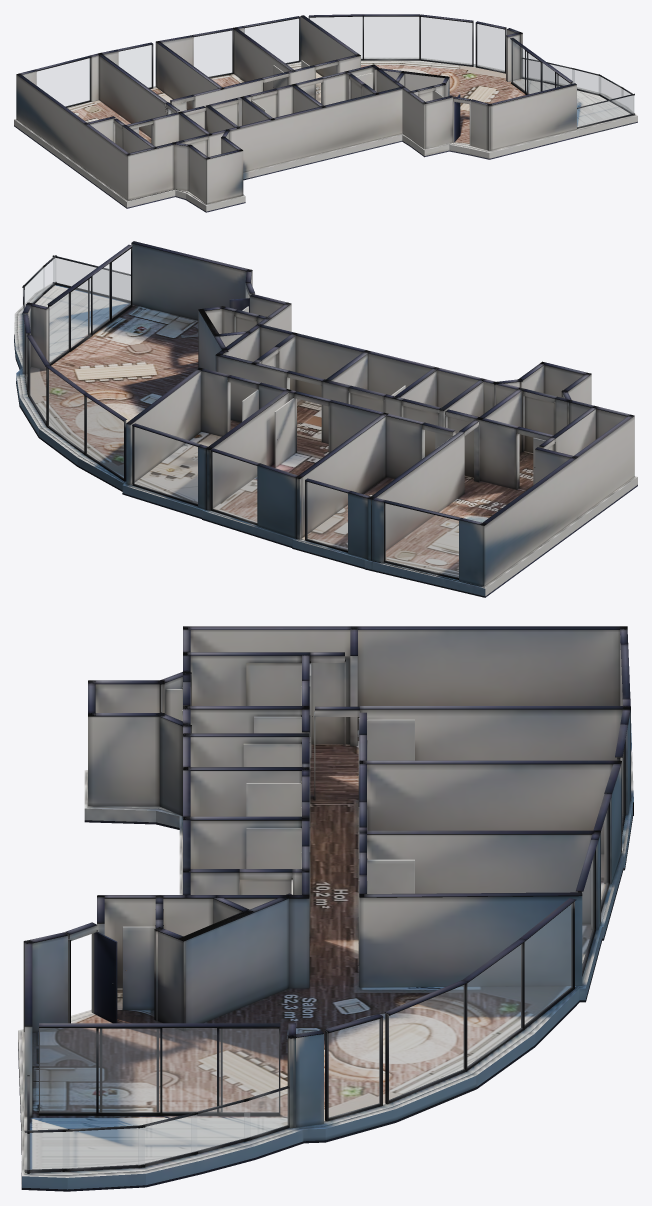
The picture shows the model from 3 angles, top to bottom: view 1: azimuth 30°, elevation 25°; view 2: azimuth 150°, elevation 25°; view 3: azimuth 270°, elevation 25°; orthographic projection. The views are drawn at different scales.
Parts seen in each view (by area): view 1: plan, glass5_m, glass6_m, glass0_m, glass2_m, glass3_m, glass8_m, glass7_m, glass4_m, railg5_m, glass1_m, railg2_m (+2 smaller); view 2: plan, glass8_m, glass0_m, glass3_m, glass2_m, glass1_m, glass4_m, glass5_m, railg5_m, glass6_m; view 3: plan, glass8_m, glass6_m, glass5_m, glass7_m, glass4_m, railg3_m, railg2_m, railg1_m, railg4_m, railg0_m, glass3_m.
Part boxes in pixels (x1,y1,x2,y2): plan: [14, 14, 637, 212]; glass5_m: [364, 17, 418, 58]; glass6_m: [421, 17, 471, 64]; glass0_m: [37, 58, 89, 106]; glass2_m: [194, 31, 232, 76]; glass3_m: [244, 19, 298, 62]; glass8_m: [511, 40, 569, 93]; glass7_m: [477, 24, 504, 71]; glass4_m: [310, 17, 362, 58]; railg5_m: [577, 96, 634, 126]; glass1_m: [119, 45, 151, 87]; railg2_m: [572, 69, 600, 94]; plan: [14, 241, 637, 597]; glass8_m: [49, 249, 130, 363]; glass0_m: [385, 503, 458, 577]; glass3_m: [134, 427, 197, 503]; glass2_m: [212, 452, 256, 522]; glass1_m: [307, 482, 347, 550]; glass4_m: [86, 397, 123, 478]; glass5_m: [48, 369, 83, 451]; railg5_m: [53, 258, 130, 300]; glass6_m: [29, 341, 45, 421]; plan: [18, 626, 633, 1191]; glass8_m: [39, 1028, 278, 1112]; glass6_m: [389, 985, 464, 1100]; glass5_m: [467, 944, 521, 1066]; glass7_m: [329, 1019, 379, 1117]; glass4_m: [525, 903, 572, 1025]; railg3_m: [63, 1128, 144, 1168]; railg2_m: [138, 1115, 196, 1165]; railg1_m: [191, 1101, 249, 1152]; railg4_m: [25, 1132, 69, 1169]; railg0_m: [244, 1089, 288, 1138]; glass3_m: [582, 855, 594, 967].
Size of the model in its own units: 24.81 by 2.62 by 13.98.
Materials: 2 (1 with a texture image).
